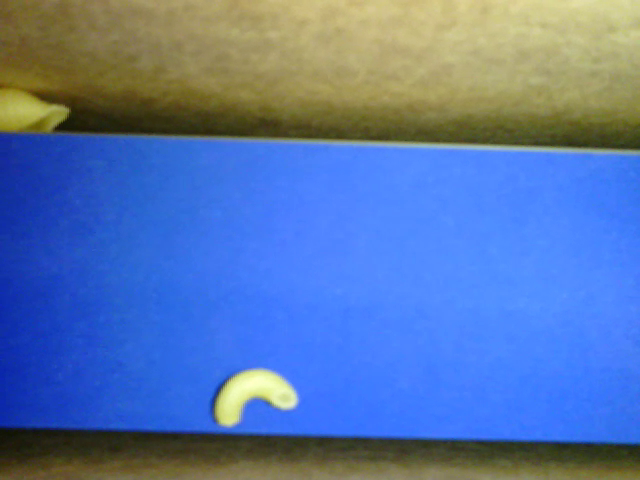elbow: (208, 365, 303, 428)
shell: (1, 81, 81, 139)
